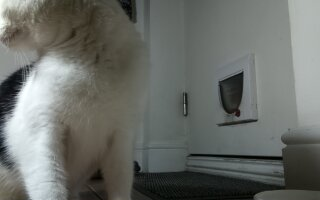bad: (2, 2, 144, 198)
